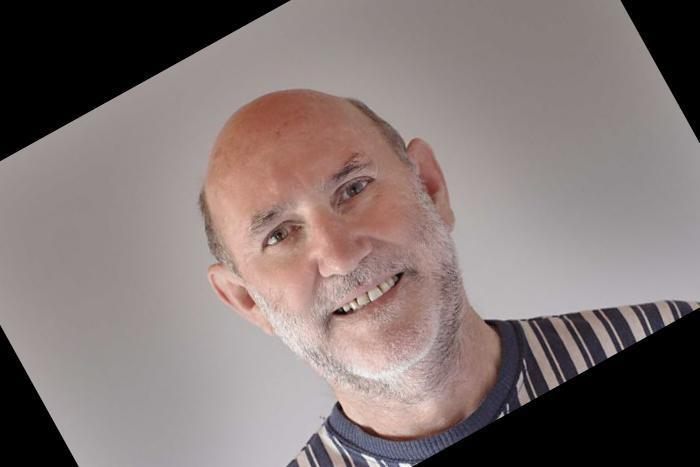Sober: (229, 118, 430, 355)
